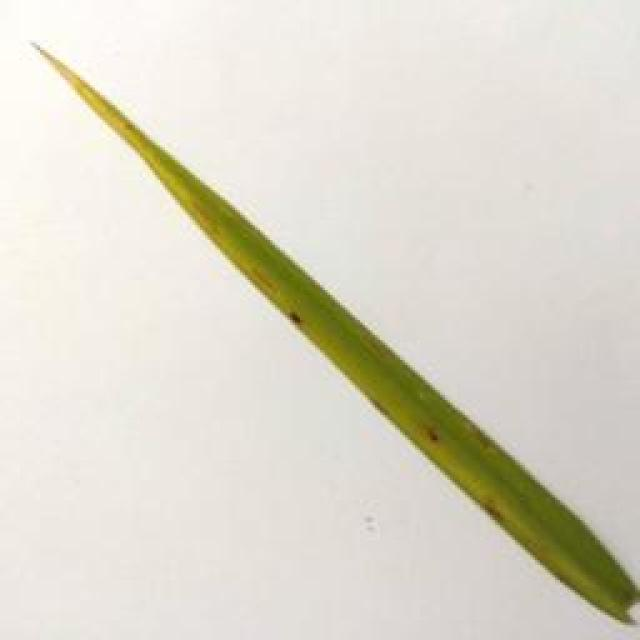Bacterial_Blight: (24, 40, 164, 148)
Brown_Spot: (465, 476, 511, 540), (414, 416, 454, 459), (466, 412, 502, 458), (277, 299, 313, 330)
